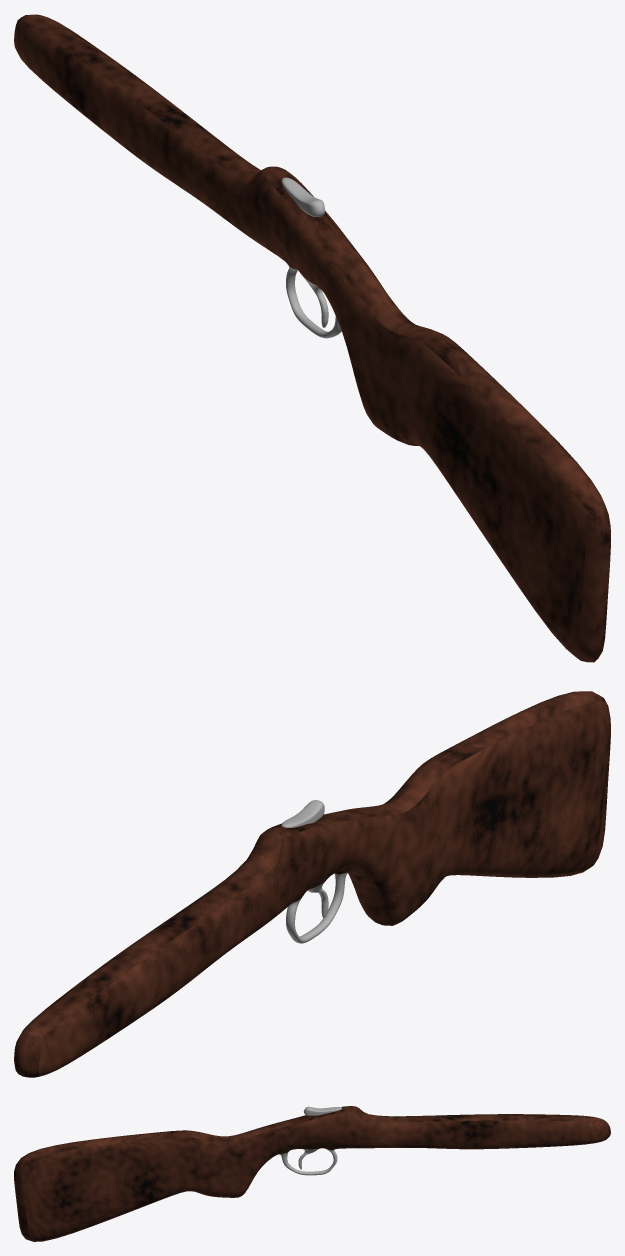
Rendered from Shotgun.fbx.
The picture shows the model from 3 angles, top to bottom: view 1: azimuth 30°, elevation 25°; view 2: azimuth 150°, elevation 25°; view 3: azimuth 270°, elevation 25°; orthographic projection. The views are drawn at different scales.
Visible parts, largest first — view 1: Shotgun_Body; view 2: Shotgun_Body; view 3: Shotgun_Body.
Boxes of the visible parts, box(x1,y1,x2,y2) form: Shotgun_Body: box(14, 14, 610, 662); Shotgun_Body: box(14, 691, 610, 1077); Shotgun_Body: box(14, 1106, 610, 1241).
Size of the model in its own units: 11.82 by 78.42 by 316.
4 materials, 4 textured.
